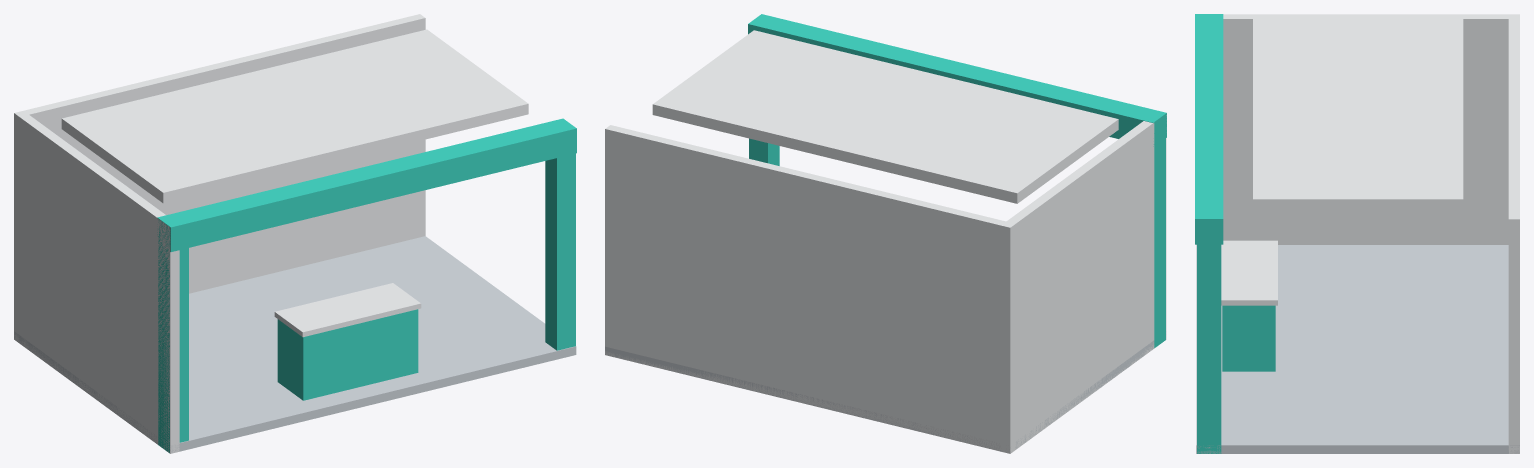
The picture shows the model from 3 angles, left to right: view 1: azimuth 30°, elevation 25°; view 2: azimuth 150°, elevation 25°; view 3: azimuth 270°, elevation 25°; orthographic projection. The views are drawn at different scales.
Parts seen in each view (by area): view 1: Exhibition Booth Concept; view 2: Exhibition Booth Concept; view 3: Exhibition Booth Concept.
Part boxes in pixels (box(x1,y1,x2,y2)): Exhibition Booth Concept: box(14, 14, 576, 453); Exhibition Booth Concept: box(605, 14, 1166, 453); Exhibition Booth Concept: box(1195, 14, 1519, 453).
Size of the model in its own units: 6 by 3.34 by 4.02.
